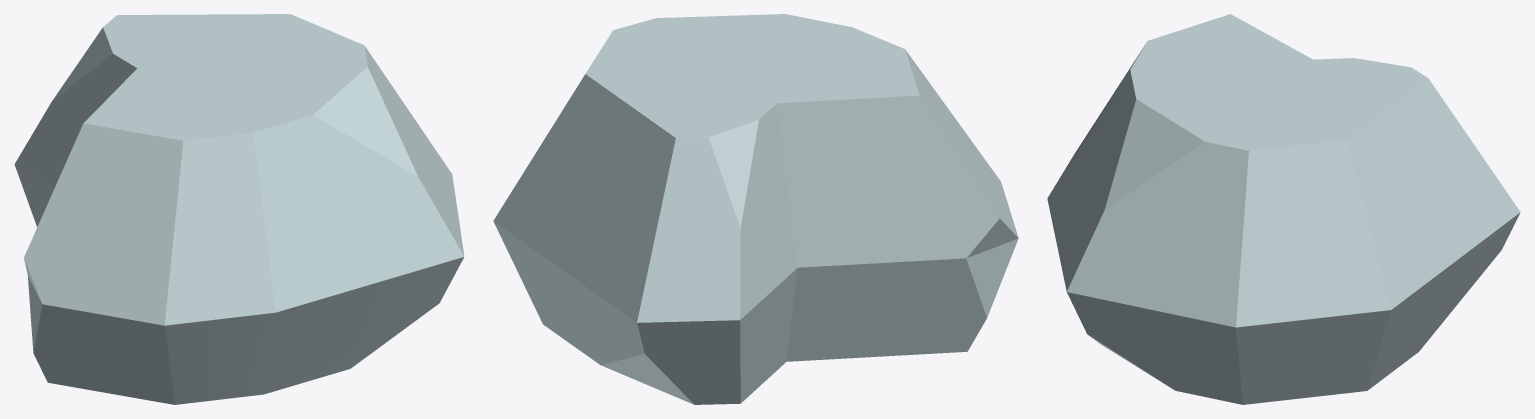
The model's file is stone_largeD.gltf.
3 views of the same model, side by side, from view 1: azimuth 30°, elevation 25°; view 2: azimuth 150°, elevation 25°; view 3: azimuth 270°, elevation 25° (orthographic). The views are drawn at different scales.
Parts seen in each view (by area): view 1: stone_largeD; view 2: stone_largeD; view 3: stone_largeD.
Boxes of the visible parts, x1,y1,x2,y2 form: stone_largeD: (14,14,464,404); stone_largeD: (493,14,1018,404); stone_largeD: (1047,14,1520,404).
Size of the model in its own units: 1.07 by 0.5683 by 1.03.
